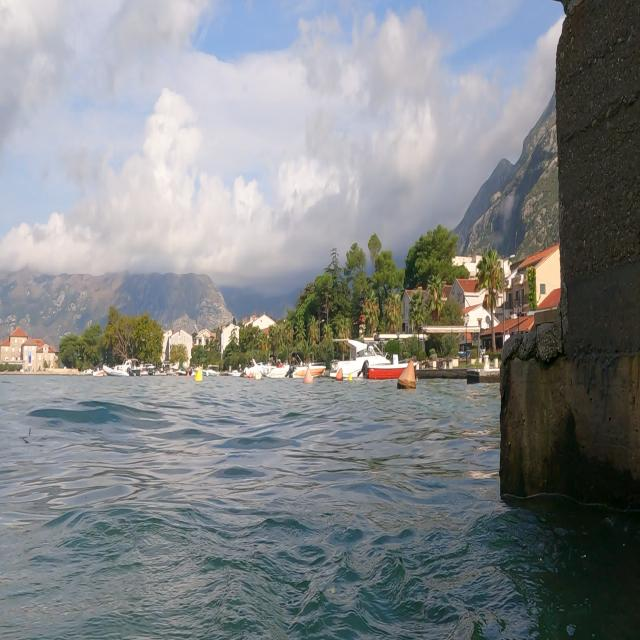boat: (329, 326, 426, 386)
buoy: (393, 355, 423, 399), (300, 365, 315, 389), (194, 363, 207, 387)
